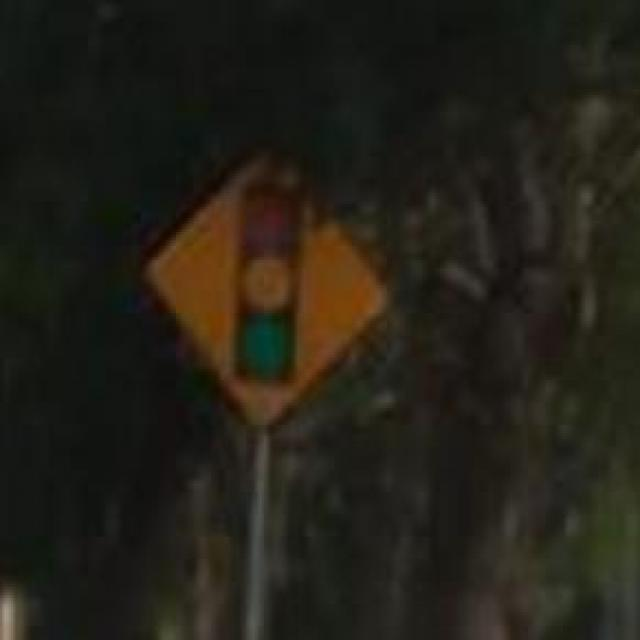traffic sign: (158, 170, 374, 424)
